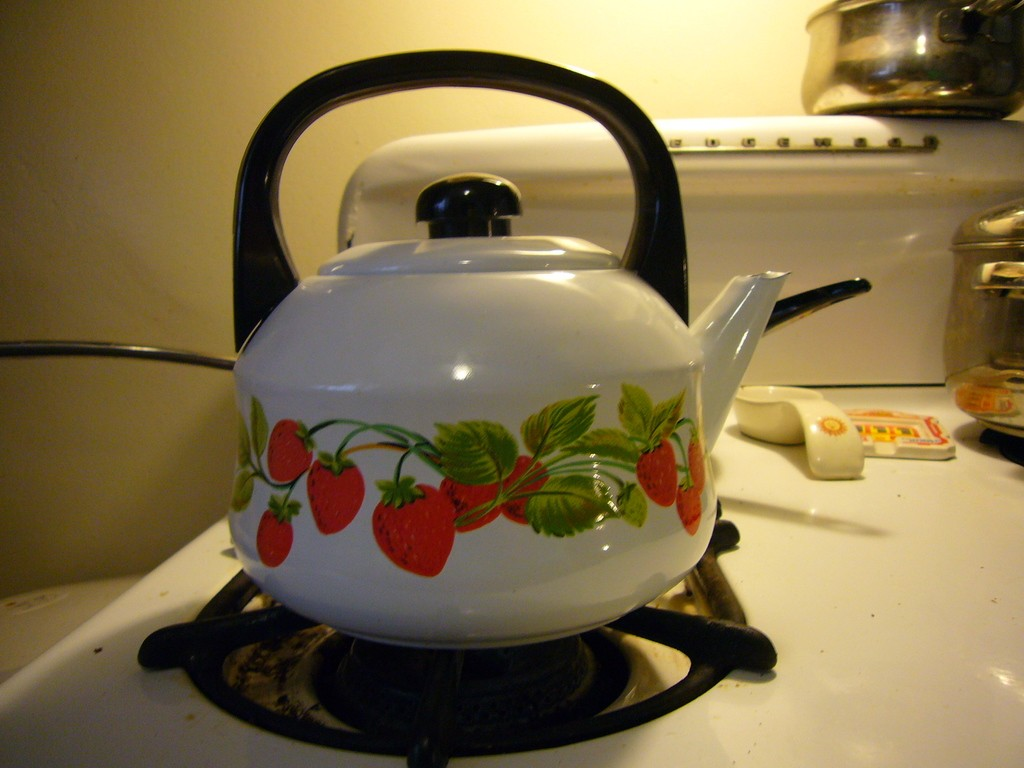teapot: (229, 50, 790, 650)
